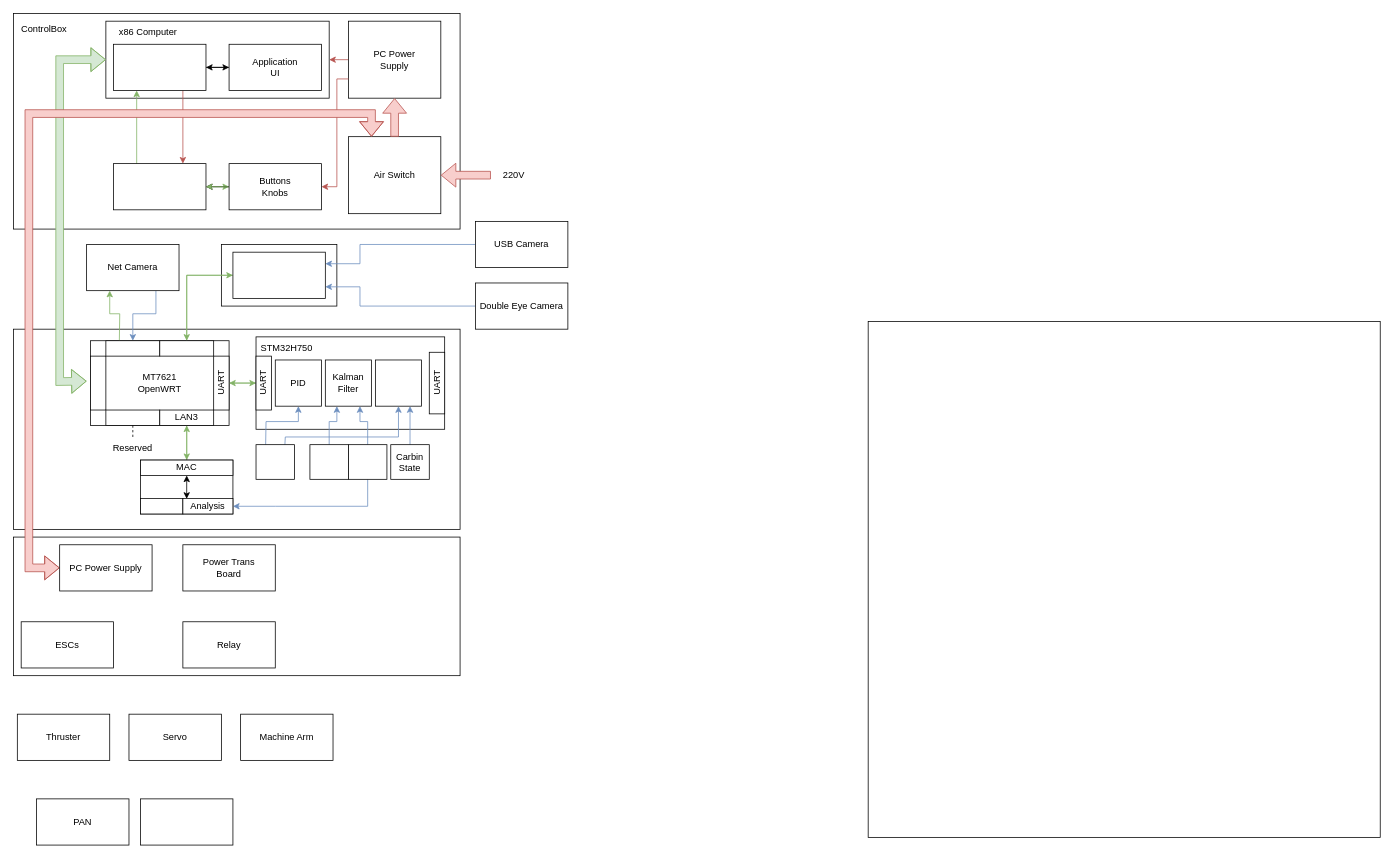
This 1394x859 diagram has some shape labels left out. Each missing label, with the centre of its shape:
"9-axis" belongs at point (275, 461).
"atmega2560 Arduino" belongs at point (159, 186).
"Inertial Navigation" belongs at point (398, 382).
"LAN1" belongs at point (132, 348).
"LAN2" belongs at point (186, 348).
"LAN4" belongs at point (132, 417).
"Nvidia Jetson TX2" belongs at point (278, 274).
"On-land Application" belongs at point (159, 67).
"Posit" belongs at point (161, 506).
"Sonar" belongs at point (367, 461).
"WAN" belongs at point (98, 382).
"Water Depth" belongs at point (328, 461).
